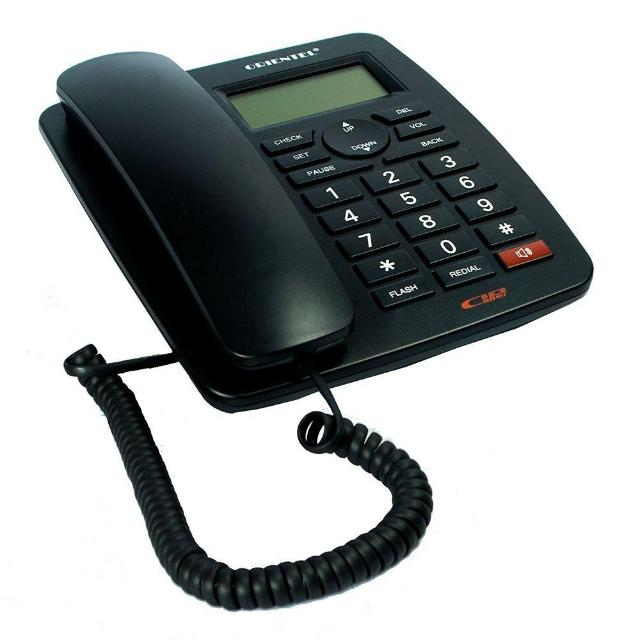Telephone-Set: (72, 16, 640, 640)
